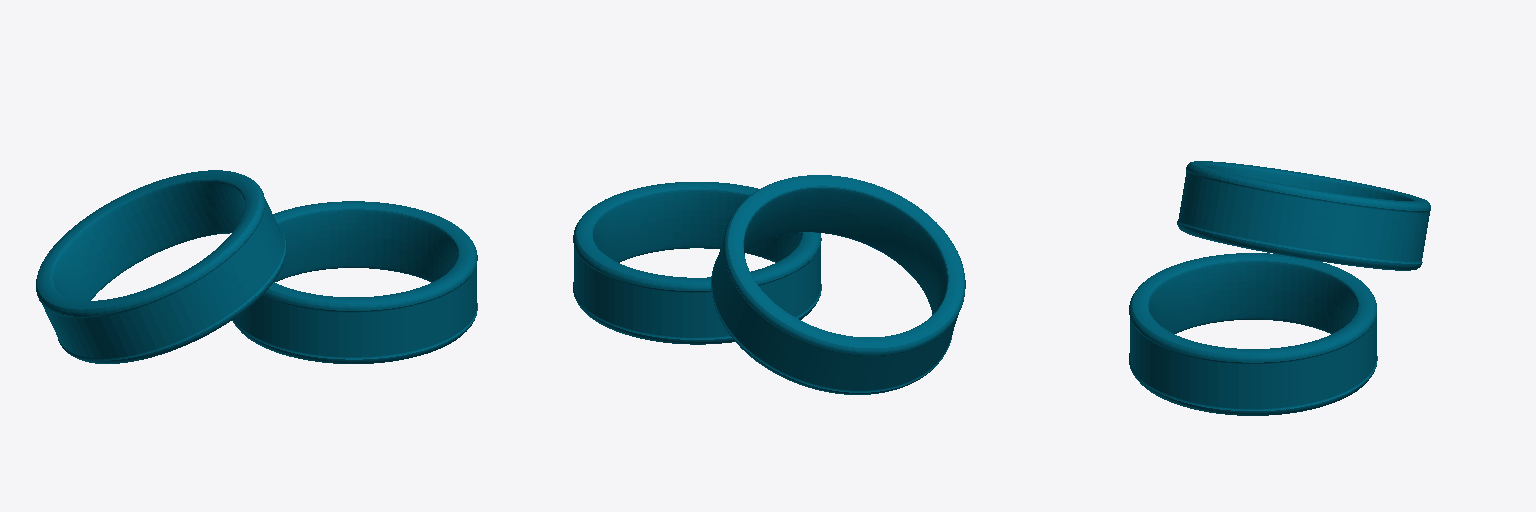
The model's file is rings.obj.
3 views of the same model, side by side, from view 1: azimuth 30°, elevation 25°; view 2: azimuth 150°, elevation 25°; view 3: azimuth 270°, elevation 25° (orthographic).
Parts seen in each view (by area): view 1: Ring002, Ring; view 2: Ring002, Ring; view 3: Ring, Ring002.
Part boxes in pixels (bbox=[...]): Ring002: bbox=[36, 170, 286, 363]; Ring: bbox=[232, 201, 477, 363]; Ring002: bbox=[711, 175, 965, 394]; Ring: bbox=[573, 182, 821, 344]; Ring: bbox=[1129, 253, 1377, 415]; Ring002: bbox=[1177, 161, 1430, 270].
Bounding box in the file's own units: 4.81 × 1.7 × 3.28.